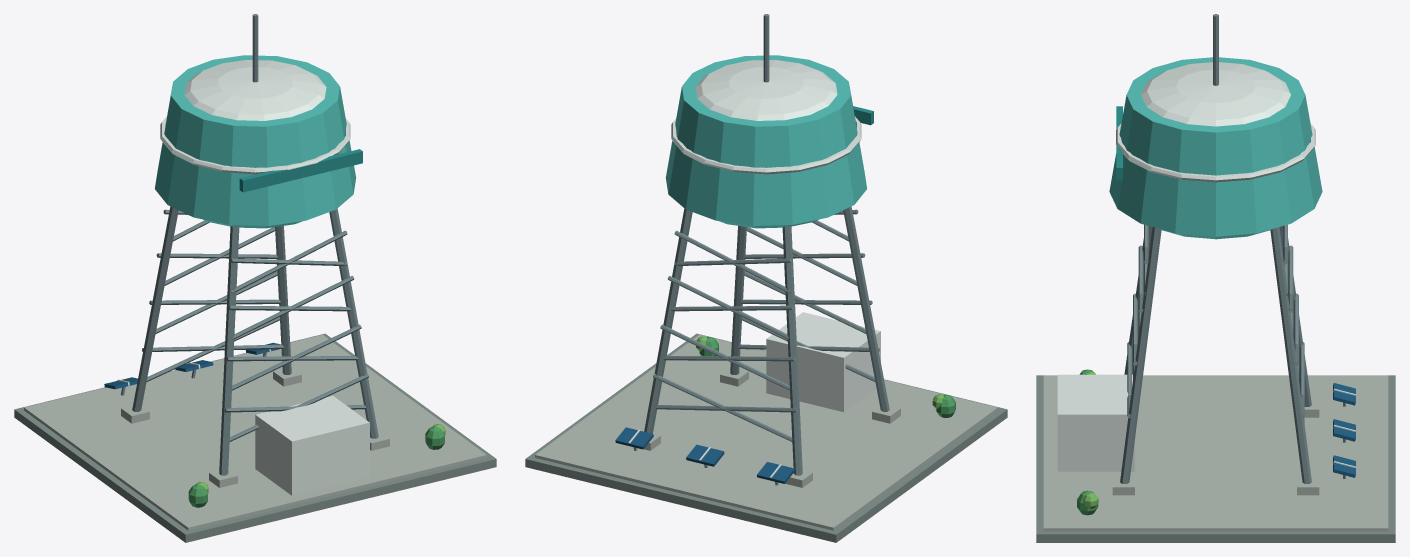
File: water_lv3.glb
3 views of the same model, side by side, from view 1: azimuth 30°, elevation 25°; view 2: azimuth 150°, elevation 25°; view 3: azimuth 270°, elevation 25° (orthographic). The views are drawn at different scales.
Visible parts, largest first — view 1: concrete, turquoise, white, steel, pavement, teal, green, solar; view 2: concrete, turquoise, steel, white, pavement, solar; view 3: concrete, turquoise, white, steel, pavement, solar.
Part boxes in pixels (bbox=[...]): concrete: bbox=[24, 334, 486, 530]; turquoise: bbox=[155, 55, 356, 228]; white: bbox=[117, 60, 369, 495]; steel: bbox=[121, 14, 378, 475]; pavement: bbox=[14, 333, 496, 542]; teal: bbox=[239, 149, 362, 192]; green: bbox=[188, 426, 444, 507]; solar: bbox=[104, 342, 280, 389]; concrete: bbox=[535, 334, 997, 530]; turquoise: bbox=[665, 55, 866, 228]; steel: bbox=[633, 14, 889, 485]; white: bbox=[628, 60, 880, 477]; pavement: bbox=[525, 333, 1007, 542]; solar: bbox=[615, 427, 794, 483]; concrete: bbox=[1043, 375, 1388, 531]; turquoise: bbox=[1109, 57, 1322, 239]; white: bbox=[1057, 62, 1355, 471]; steel: bbox=[1120, 14, 1345, 483]; pavement: bbox=[1036, 375, 1395, 542]; solar: bbox=[1333, 383, 1355, 477].
Size of the model in its own units: 8.8 by 11.55 by 8.4.
